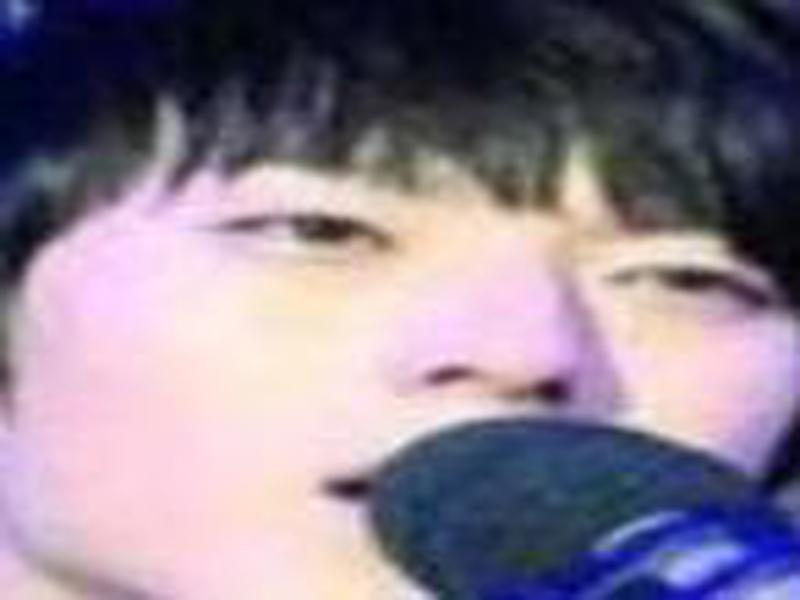without_mask: (25, 131, 797, 600)
